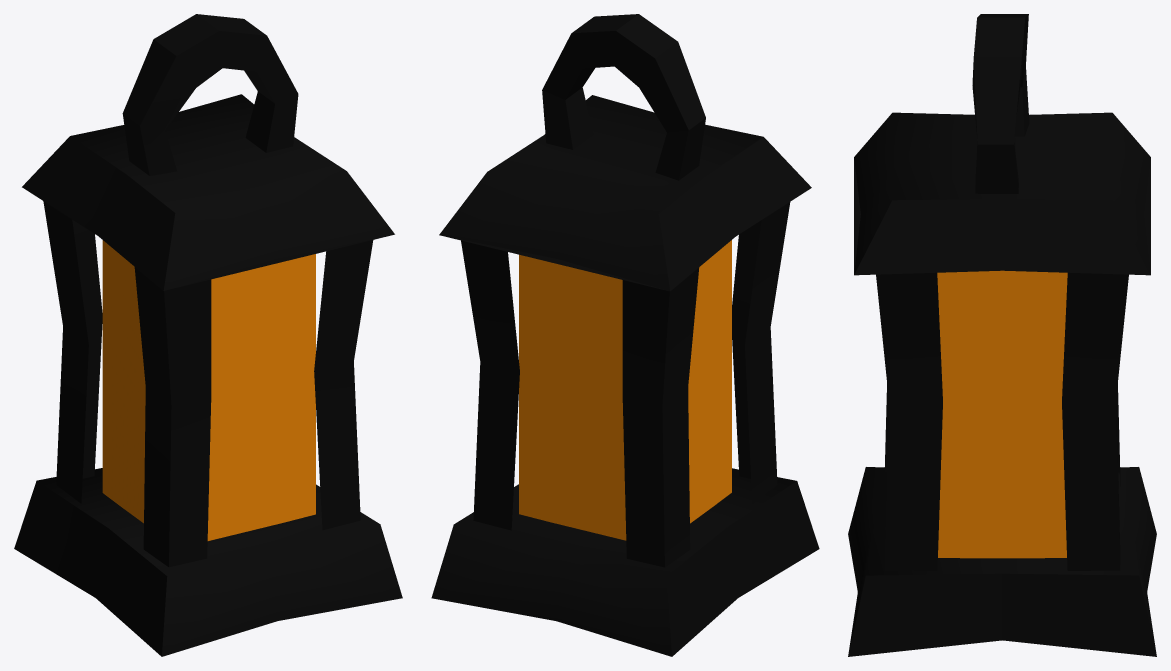
Rendered from lantern_01.FBX.
The picture shows the model from 3 angles, left to right: view 1: azimuth 30°, elevation 25°; view 2: azimuth 150°, elevation 25°; view 3: azimuth 270°, elevation 25°; orthographic projection. The views are drawn at different scales.
Visible parts, largest first — view 1: Lantern_02; view 2: Lantern_02; view 3: Lantern_02.
Boxes of the visible parts, x1,y1,x2,y2 form: Lantern_02: [14, 14, 402, 656]; Lantern_02: [431, 14, 819, 656]; Lantern_02: [848, 14, 1156, 656].
Bounding box in the file's own units: 71.24 × 75.63 × 156.
